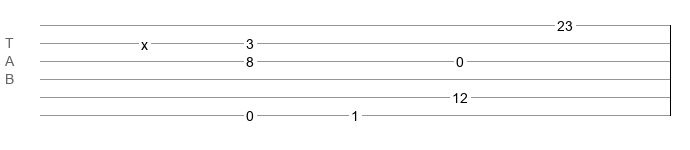0: (246, 108, 254, 118), (456, 54, 464, 64)
1: (351, 108, 359, 118)
12: (452, 90, 468, 100)
23: (557, 18, 573, 28)
3: (246, 36, 254, 46)
8: (246, 54, 254, 64)
x: (141, 37, 148, 45)
